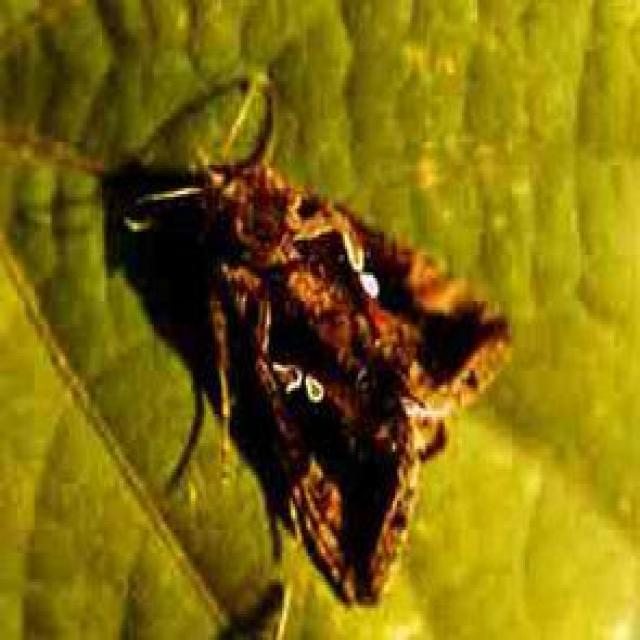armyworm: (79, 54, 541, 638)
